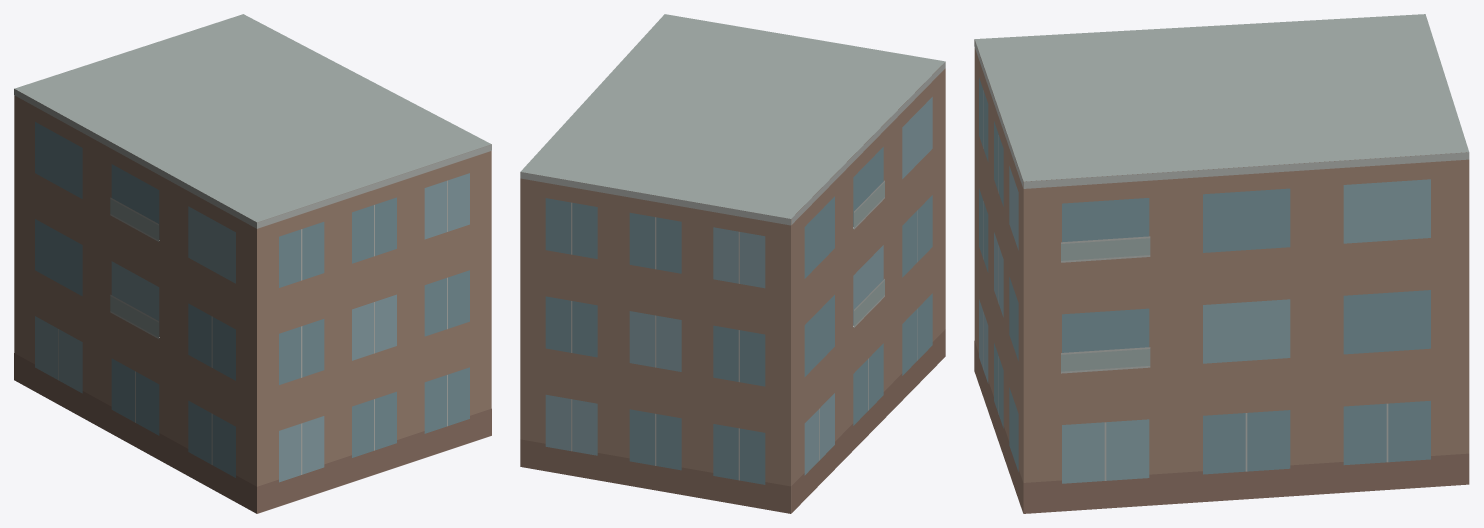
Rendered from survey-upis-32733628.glb.
The picture shows the model from 3 angles, left to right: view 1: azimuth 30°, elevation 25°; view 2: azimuth 150°, elevation 25°; view 3: azimuth 270°, elevation 25°; orthographic projection. The views are drawn at different scales.
Parts seen in each view (by area): view 1: survey-upis-32733628.tmp; view 2: survey-upis-32733628.tmp; view 3: survey-upis-32733628.tmp.
Part boxes in pixels (x1=…): survey-upis-32733628.tmp: x1=14, y1=14, x2=491, y2=513; survey-upis-32733628.tmp: x1=520, y1=14, x2=945, y2=513; survey-upis-32733628.tmp: x1=974, y1=14, x2=1469, y2=513.
Bounding box in the file's own units: 11.85 × 10.95 × 14.79.
